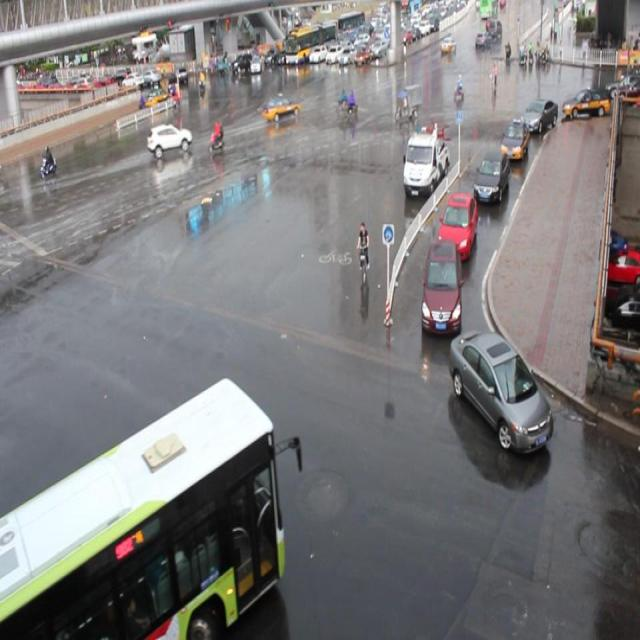bus: (401, 127, 448, 200)
car: (447, 328, 552, 452), (419, 239, 461, 332), (436, 192, 476, 258), (473, 150, 508, 202), (146, 121, 193, 154), (522, 97, 556, 133), (499, 118, 527, 161), (262, 94, 300, 123)
van: (1, 377, 283, 640)
